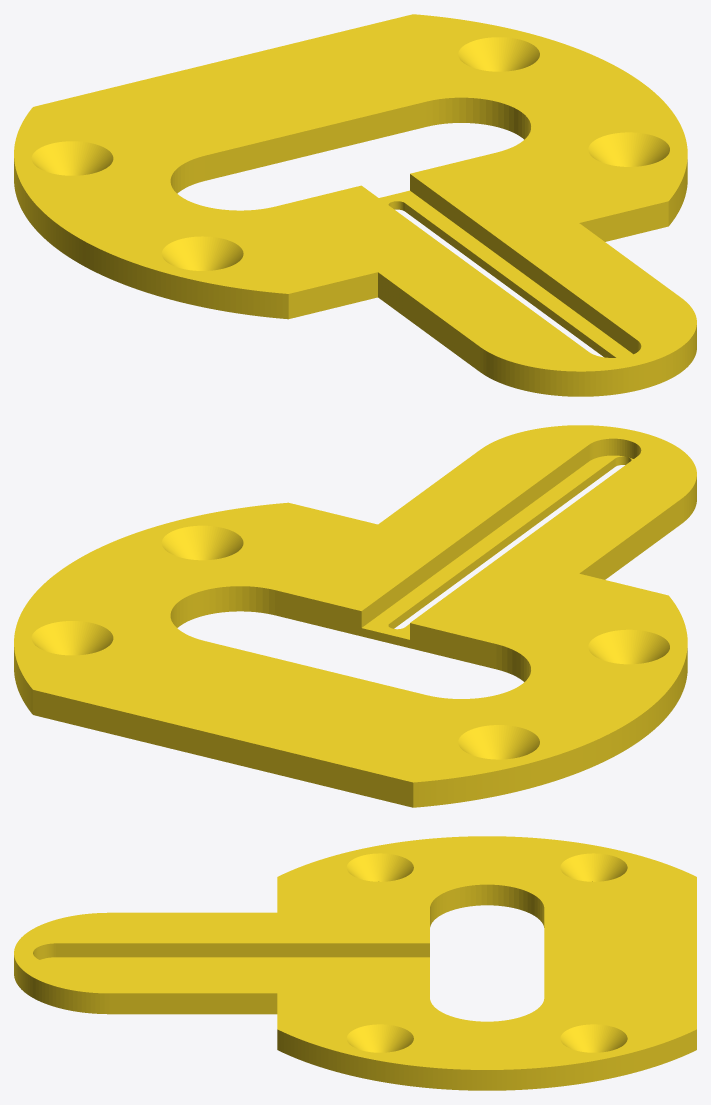
The model's file is openscad_circle-cut.glb.
3 views of the same model, one above another, from view 1: azimuth 30°, elevation 25°; view 2: azimuth 150°, elevation 25°; view 3: azimuth 270°, elevation 25° (orthographic). The views are drawn at different scales.
Parts seen in each view (by area): view 1: object; view 2: object; view 3: object.
Part boxes in pixels (<box>): object: <box>14,14,696,396</box>; object: <box>14,425,696,807</box>; object: <box>14,836,696,1090</box>.
Bounding box in the file's own units: 145 × 6 × 179.
